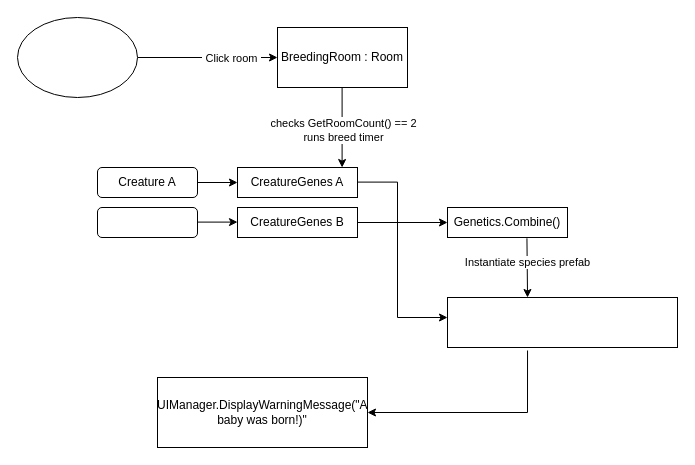
Image size: 695x465. Some labels were removed from this diagram. Each missing label, with the box of its shape:
Baby: CreatureGenes.ApplyGenes() + creature stats (trait values): (446, 296, 678, 348)
Creature B: (96, 206, 198, 238)
Selector: (16, 16, 138, 98)
